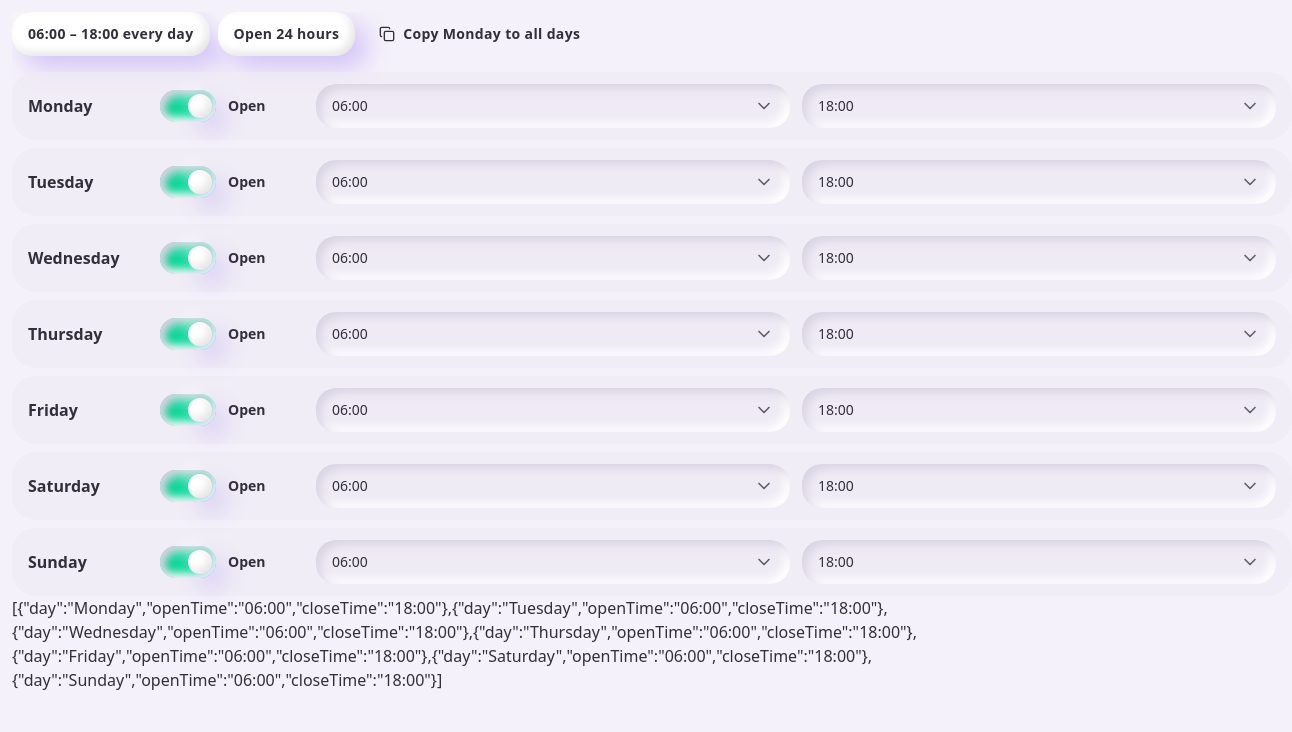
Scenario: ScheduleEditor › closes a day and disables its times
Click the switch named "Open on Sunday" at x=232, y=562, box [160,540,304,584]
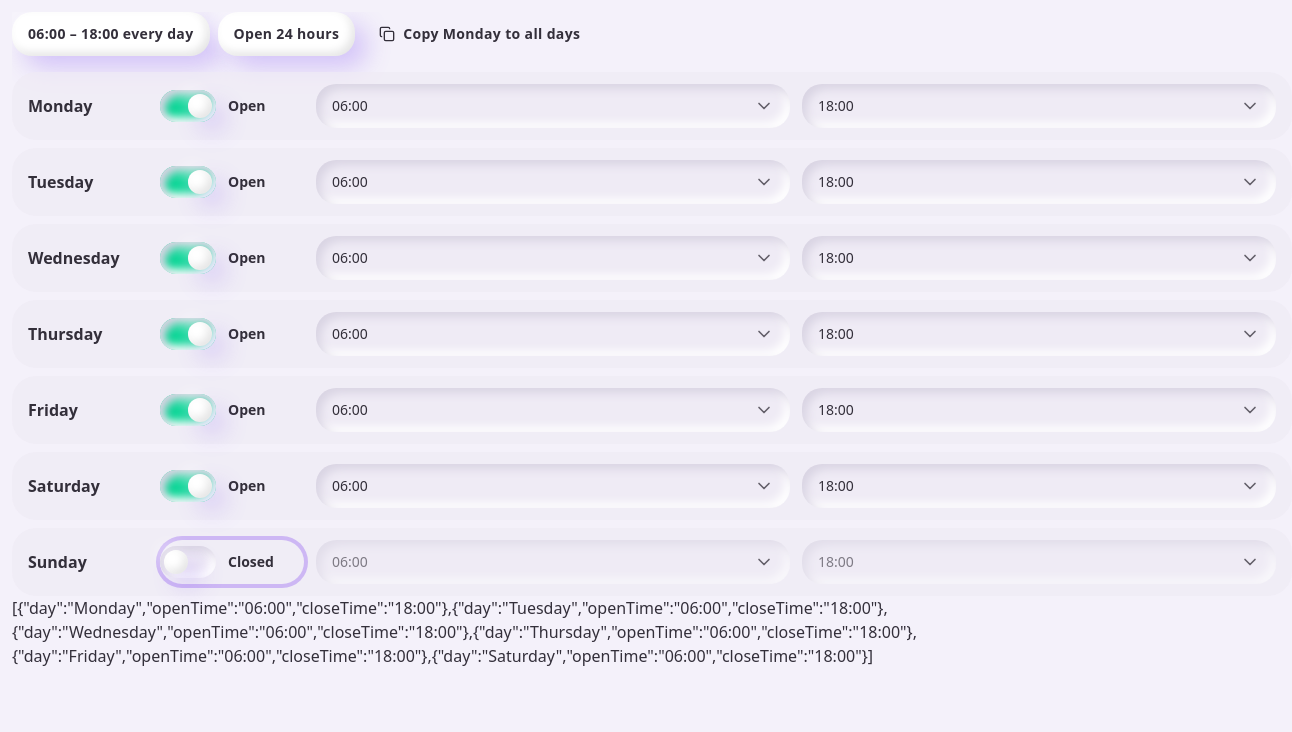
Result: the dropdown named "Sunday opening time" is disabled at [316,540,790,584]
